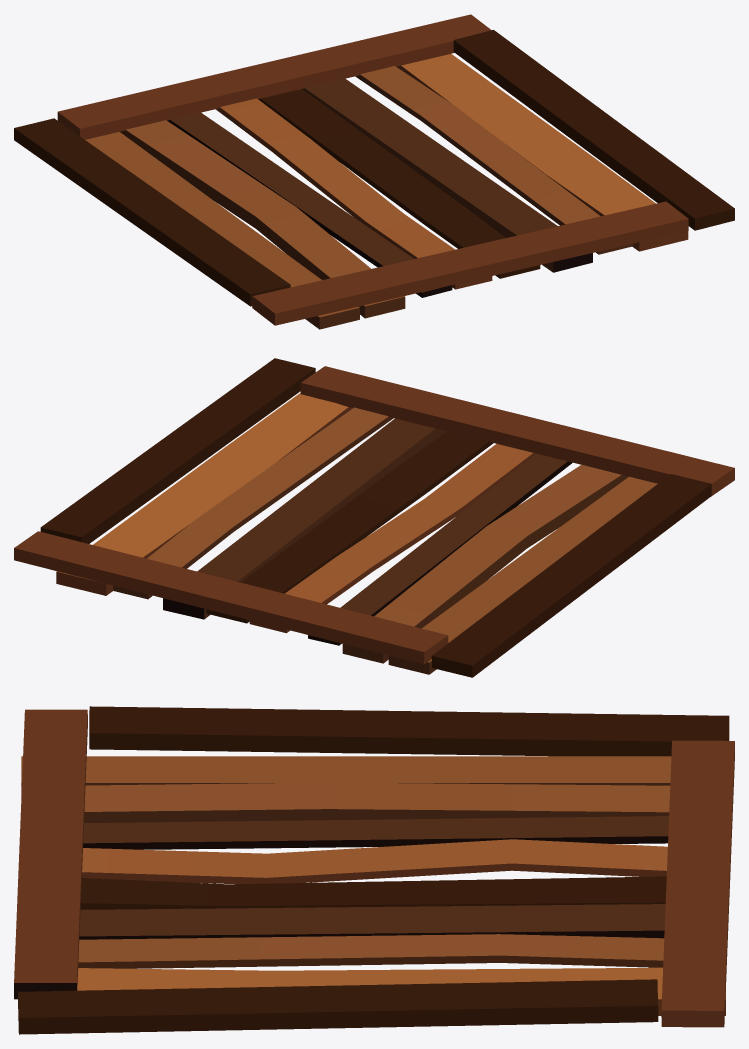
File: board_block.glb
3 renders of one model, top to bottom at view 1: azimuth 30°, elevation 25°; view 2: azimuth 150°, elevation 25°; view 3: azimuth 270°, elevation 25°, orthographic. The views are drawn at different scales.
Visible parts, largest first — view 1: boards; view 2: boards; view 3: boards.
Boxes of the visible parts, x1,y1,x2,y2 form: boards: [14, 14, 734, 329]; boards: [14, 358, 734, 677]; boards: [14, 706, 734, 1034].
Bounding box in the file's own units: 1.01 × 0.0636 × 1.01.
Materials: 1 (1 with a texture image).
